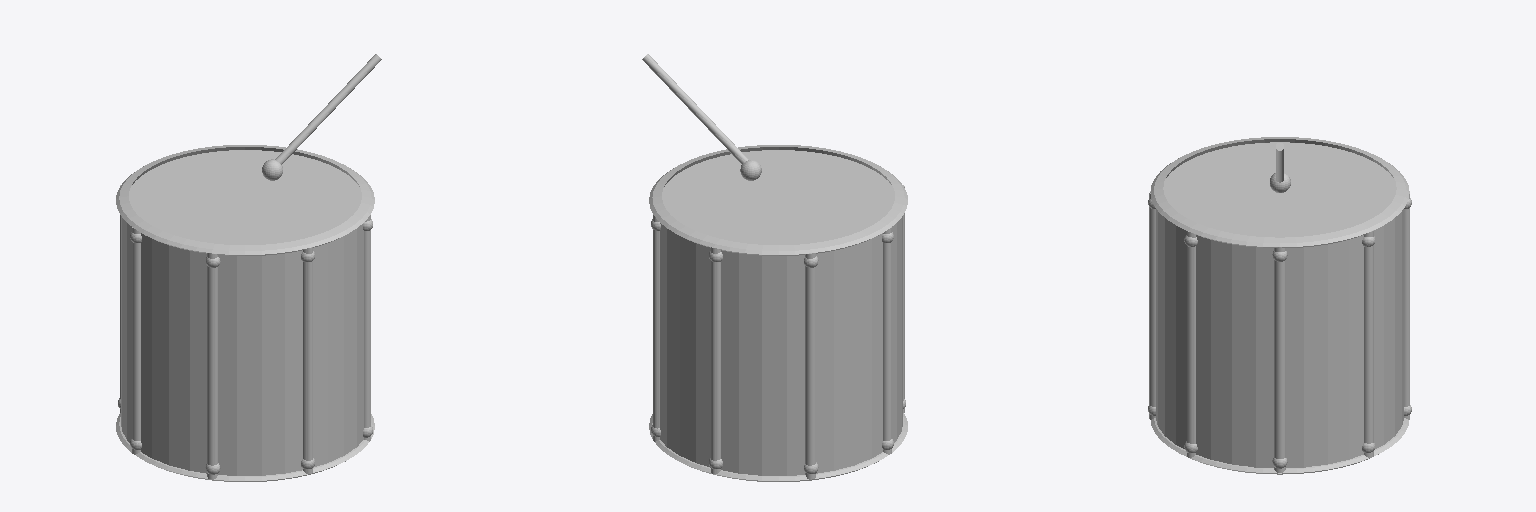
File: zeOBJ.obj
3 renders of one model, left to right at view 1: azimuth 30°, elevation 25°; view 2: azimuth 150°, elevation 25°; view 3: azimuth 270°, elevation 25°, orthographic.
Parts seen in each view (by area): view 1: corpoSurdo, baseCima, aresta4, aresta1, aresta3, baseBaixo, aresta5, baquetaCorpo; view 2: corpoSurdo, baseCima, aresta7, aresta0, aresta3, baseBaixo, aresta6, baquetaCorpo; view 3: corpoSurdo, baseCima, aresta2, aresta6, aresta5, baseBaixo, aresta1, aresta0.
Part boxes in pixels (x1,y1,x2,y2): corpoSurdo: (121, 150, 363, 475); baseCima: (116, 145, 374, 255); aresta4: (207, 253, 217, 479); aresta1: (303, 247, 312, 473); aresta3: (132, 227, 140, 454); baseBaixo: (116, 413, 374, 481); aresta5: (364, 215, 370, 441); baquetaCorpo: (275, 54, 381, 164); corpoSurdo: (660, 150, 902, 475); baseCima: (649, 145, 907, 255); aresta7: (805, 253, 815, 479); aresta0: (711, 247, 720, 473); aresta3: (883, 227, 891, 454); baseBaixo: (649, 413, 907, 481); aresta6: (653, 215, 659, 441); baquetaCorpo: (642, 54, 748, 163); corpoSurdo: (1156, 142, 1403, 467); baseCima: (1150, 137, 1409, 247); aresta2: (1274, 247, 1285, 472); aresta6: (1364, 230, 1373, 457); aresta5: (1187, 231, 1195, 457); baseBaixo: (1151, 418, 1408, 474); aresta1: (1149, 191, 1155, 419); aresta0: (1404, 191, 1409, 419).
Bounding box in the file's own units: 2.32 × 3.05 × 2.12.